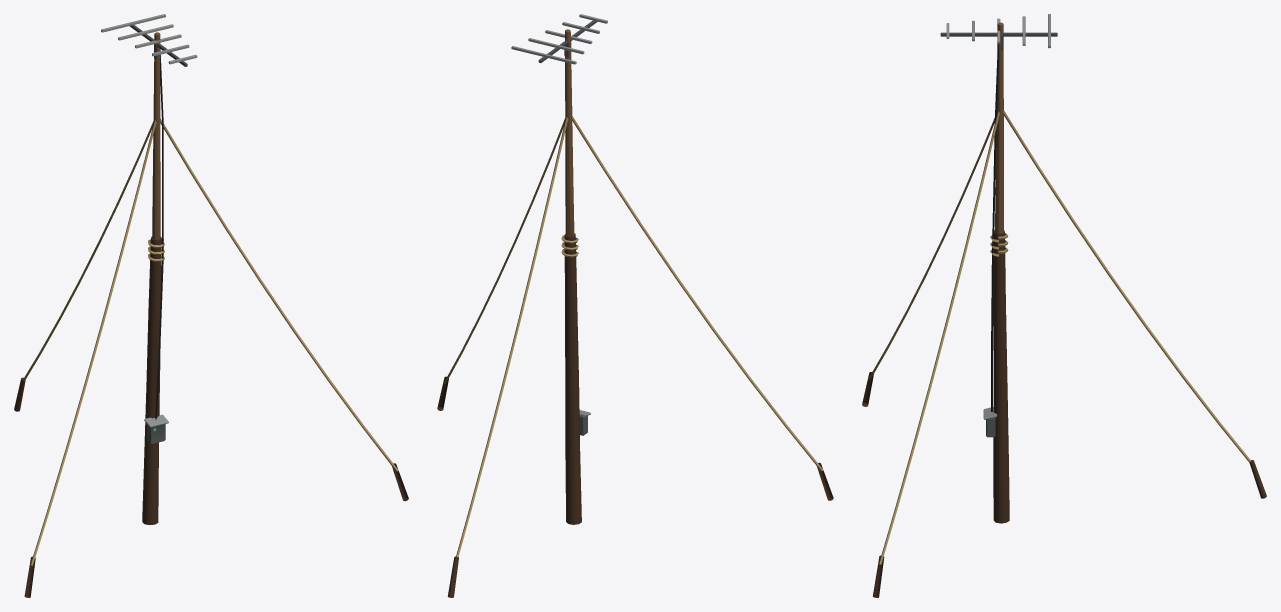
File: aerial.glb
3 views of the same model, side by side, from view 1: azimuth 30°, elevation 25°; view 2: azimuth 150°, elevation 25°; view 3: azimuth 270°, elevation 25° (orthographic). The views are drawn at different scales.
Visible parts, largest first — view 1: aerial; view 2: aerial; view 3: aerial.
Boxes of the visible parts, <box> form: aerial: <box>14,14,408,597</box>; aerial: <box>437,14,833,597</box>; aerial: <box>862,14,1266,597</box>.
Bounding box in the file's own units: 9.43 × 11.3 × 8.3.
